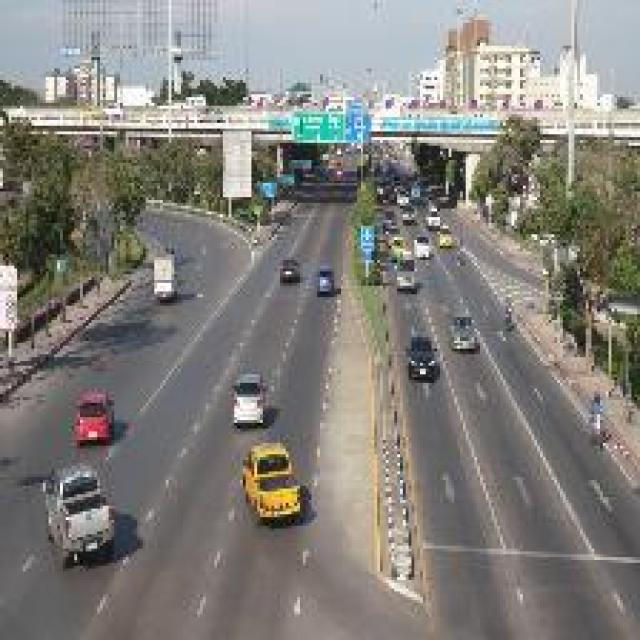other: (219, 438, 326, 529), (50, 373, 118, 451)
